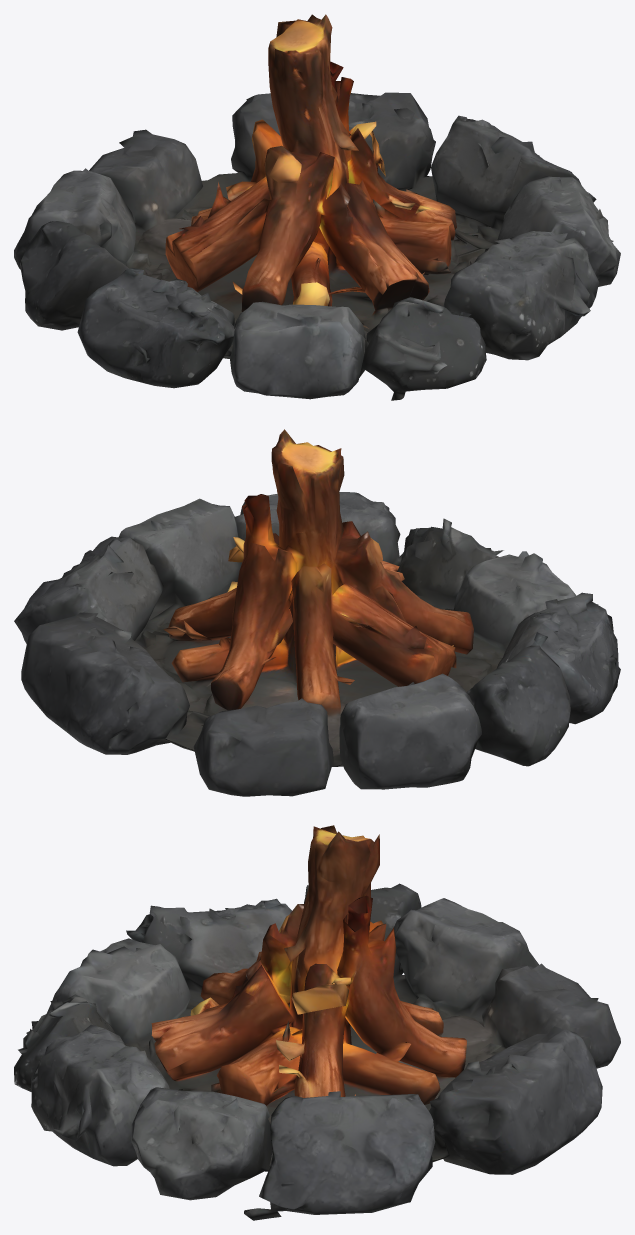
Rendered from campfire.glb.
The picture shows the model from 3 angles, top to bottom: view 1: azimuth 30°, elevation 25°; view 2: azimuth 150°, elevation 25°; view 3: azimuth 270°, elevation 25°; orthographic projection. The views are drawn at different scales.
Visible parts, largest first — view 1: tripo_node_5c0d7708-e535-42c5-8c4e-10128fa83128; view 2: tripo_node_5c0d7708-e535-42c5-8c4e-10128fa83128; view 3: tripo_node_5c0d7708-e535-42c5-8c4e-10128fa83128.
Part boxes in pixels (left/top/right/bottom): tripo_node_5c0d7708-e535-42c5-8c4e-10128fa83128: left=14, top=14, right=620, bottom=400; tripo_node_5c0d7708-e535-42c5-8c4e-10128fa83128: left=14, top=429, right=620, bottom=796; tripo_node_5c0d7708-e535-42c5-8c4e-10128fa83128: left=14, top=825, right=620, bottom=1220.
Size of the model in its own units: 1 by 0.4682 by 0.9518.
1 material, 1 textured.
